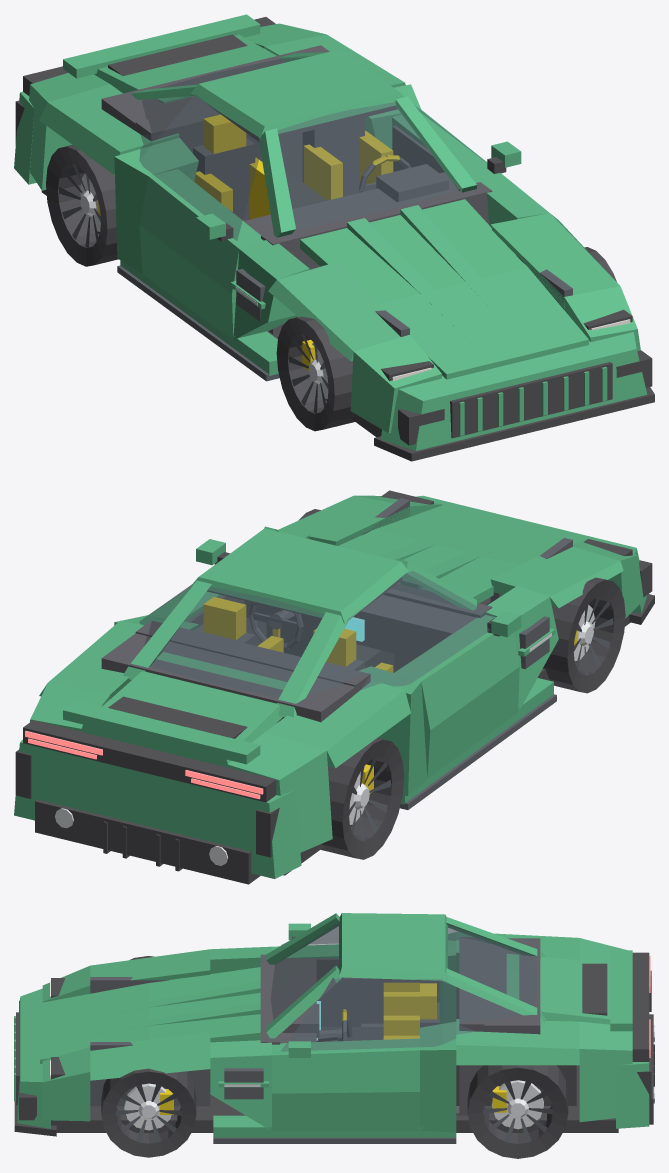
The model's file is GrandTourerV8_01.fbx.
3 views of the same model, one above another, from view 1: azimuth 30°, elevation 25°; view 2: azimuth 150°, elevation 25°; view 3: azimuth 270°, elevation 25° (orthographic). The views are drawn at different scales.
Visible parts, largest first — view 1: mod_hood_0_stock, mod_bumper_front_0_stock, roof_cabin, fender_front_right, glass_windshield, fender_rear_right, door_right, glass_side_right, interior_cabin, fender_front_left, wheel-back-right, wheel-front-right (+14 smaller); view 2: mod_bumper_rear_0_stock, roof_cabin, fender_rear_right, interior_cabin, glass_side_right, glass_rear, door_right, mod_hood_0_stock, fender_front_right, engine_decklid, mod_taillight_0_stock, wheel-back-right (+17 smaller); view 3: fender_rear_left, door_left, mod_hood_0_stock, fender_front_left, roof_cabin, glass_side_left, interior_cabin, wheel-back-left, wheel-front-left, fender_front_right, engine_decklid, glass_rear (+17 smaller).
Boxes of the visible parts, box(x1,y1,x2,y2) form: mod_hood_0_stock: box(300, 199, 588, 379); mod_bumper_front_0_stock: box(374, 332, 654, 461); roof_cabin: box(131, 49, 476, 237); fender_front_right: box(230, 240, 441, 433); glass_windshield: box(278, 102, 458, 230); fender_rear_right: box(29, 73, 198, 273); door_right: box(139, 169, 263, 339); glass_side_right: box(139, 94, 262, 240); interior_cabin: box(101, 45, 492, 334); fender_front_left: box(486, 182, 640, 350); wheel-back-right: box(46, 145, 118, 266); wheel-front-right: box(276, 316, 354, 431); mod_bumper_rear_0_stock: box(14, 739, 301, 884); roof_cabin: box(123, 526, 476, 717); fender_rear_right: box(226, 666, 427, 852); interior_cabin: box(101, 584, 492, 723); glass_side_right: box(308, 571, 495, 694); glass_rear: box(150, 586, 324, 697); door_right: box(394, 615, 519, 778); mod_hood_0_stock: box(338, 504, 588, 603); fender_front_right: box(485, 538, 643, 711); engine_decklid: box(80, 652, 287, 767); mod_taillight_0_stock: box(23, 720, 276, 802); wheel-back-right: box(320, 738, 404, 859); fender_rear_left: box(420, 1019, 632, 1132); door_left: box(272, 1038, 419, 1131); mod_hood_0_stock: box(40, 967, 260, 1063); fender_front_left: box(42, 1032, 271, 1130); roof_cabin: box(266, 913, 545, 1038); glass_side_left: box(281, 971, 519, 1051); interior_cabin: box(260, 937, 540, 1115); wheel-back-left: box(467, 1065, 568, 1158); wheel-front-left: box(101, 1068, 196, 1157); fender_front_right: box(42, 946, 271, 1002); engine_decklid: box(506, 953, 610, 1024); glass_rear: box(446, 924, 537, 1006).
Bounding box in the file's own units: 2.1 × 1.26 × 4.59.
